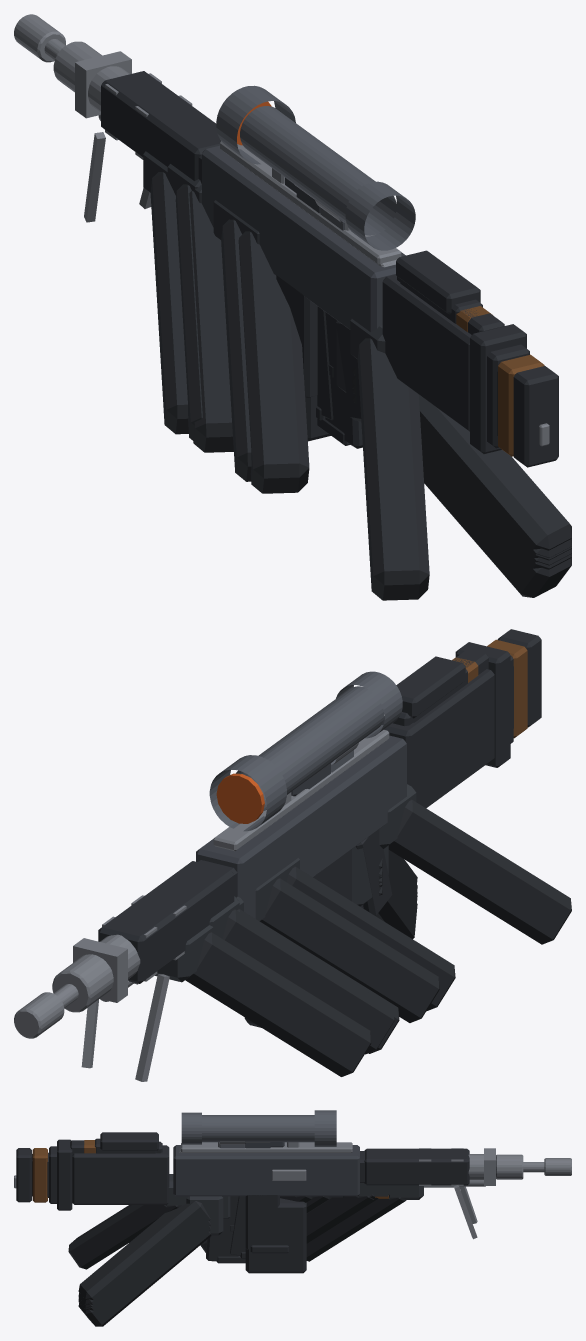
Rendered from weapons.glb.
The picture shows the model from 3 angles, top to bottom: view 1: azimuth 30°, elevation 25°; view 2: azimuth 150°, elevation 25°; view 3: azimuth 270°, elevation 25°; orthographic projection. The views are drawn at different scales.
Visible parts, largest first — view 1: forearm_L.004, receiver.005, forearm_L.001, stock.004, forearm_R.004, handguard.004, scope_tube, forearm_L, forearm_L.005, forearm_R.005, forearm_L.002, forearm_R (+21 smaller); view 2: receiver.005, forearm_L.004, forearm_L.005, forearm_L.002, stock.004, handguard.004, forearm_L.003, scope_tube, forearm_L.001, cheek.004, buttpad.004, scope_bell (+20 smaller); view 3: receiver.005, stock.004, forearm_R.004, handguard.004, boxmag, scope_tube, forearm_L.004, forearm_R.001, forearm_L.005, forearm_R, forearm_L, rail.005 (+24 smaller).
Boxes of the visible parts, x1=… form: forearm_L.004: x1=357, y1=338, x2=429, y2=600; receiver.005: x1=202, y1=145, x2=405, y2=332; forearm_L.001: x1=238, y1=231, x2=309, y2=493; stock.004: x1=382, y1=274, x2=471, y2=431; forearm_R.004: x1=352, y1=367, x2=571, y2=552; handguard.004: x1=101, y1=71, x2=220, y2=180; scope_tube: x1=240, y1=106, x2=396, y2=235; forearm_L: x1=189, y1=191, x2=233, y2=452; forearm_L.005: x1=150, y1=172, x2=188, y2=434; forearm_R.005: x1=352, y1=395, x2=571, y2=597; forearm_L.002: x1=221, y1=219, x2=251, y2=481; forearm_R: x1=352, y1=386, x2=571, y2=584; receiver.005: x1=196, y1=735, x2=406, y2=918; forearm_L.004: x1=388, y1=799, x2=571, y2=944; forearm_L.005: x1=185, y1=932, x2=371, y2=1076; forearm_L.002: x1=260, y1=878, x2=439, y2=1022; stock.004: x1=381, y1=669, x2=494, y2=808; handguard.004: x1=98, y1=861, x2=234, y2=983; forearm_L.003: x1=222, y1=909, x2=394, y2=1054; scope_tube: x1=236, y1=686, x2=384, y2=810; forearm_L.001: x1=286, y1=866, x2=455, y2=1011; cheek.004: x1=396, y1=656, x2=465, y2=718; buttpad.004: x1=455, y1=642, x2=510, y2=767; scope_bell: x1=209, y1=755, x2=286, y2=831; receiver.005: x1=173, y1=1145, x2=359, y2=1196; stock.004: x1=72, y1=1145, x2=169, y2=1204; forearm_R.004: x1=78, y1=1201, x2=210, y2=1309; handguard.004: x1=364, y1=1148, x2=469, y2=1185; boxmag: x1=245, y1=1198, x2=306, y2=1273; scope_tube: x1=202, y1=1115, x2=314, y2=1142; forearm_L.004: x1=68, y1=1205, x2=179, y2=1269; forearm_R.001: x1=78, y1=1212, x2=210, y2=1315; forearm_L.005: x1=306, y1=1197, x2=406, y2=1261; forearm_R: x1=78, y1=1217, x2=210, y2=1319; forearm_L: x1=306, y1=1196, x2=373, y2=1241; rail.005: x1=181, y1=1142, x2=352, y2=1152.
Size of the model in its own units: 0.3163 by 0.5253 by 1.38.
